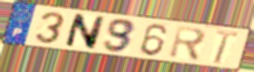3: (33, 11, 66, 45)
6: (138, 22, 169, 58)
9: (101, 18, 138, 54)
N: (62, 12, 107, 51)
R: (167, 25, 208, 63)
T: (212, 28, 241, 65)
